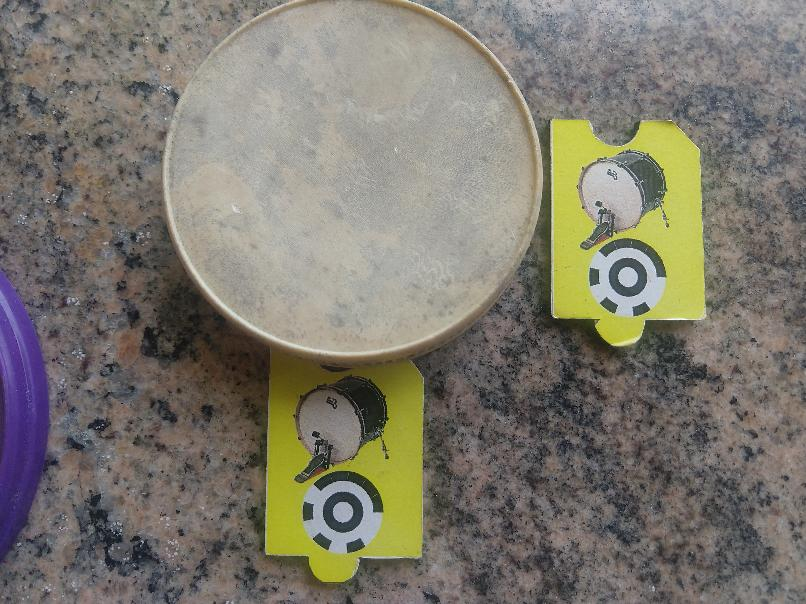bumbo: (262, 336, 433, 586), (544, 106, 709, 345)
